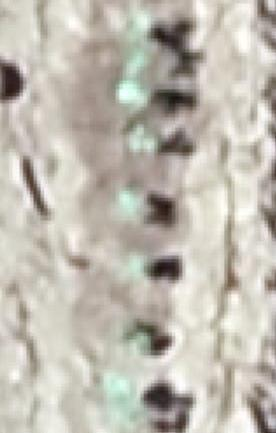cotton: (117, 83, 146, 103), (113, 380, 138, 402), (133, 131, 159, 152), (130, 14, 148, 39), (121, 191, 139, 211), (126, 256, 143, 277), (127, 51, 148, 67), (124, 409, 147, 423), (137, 336, 152, 352)
